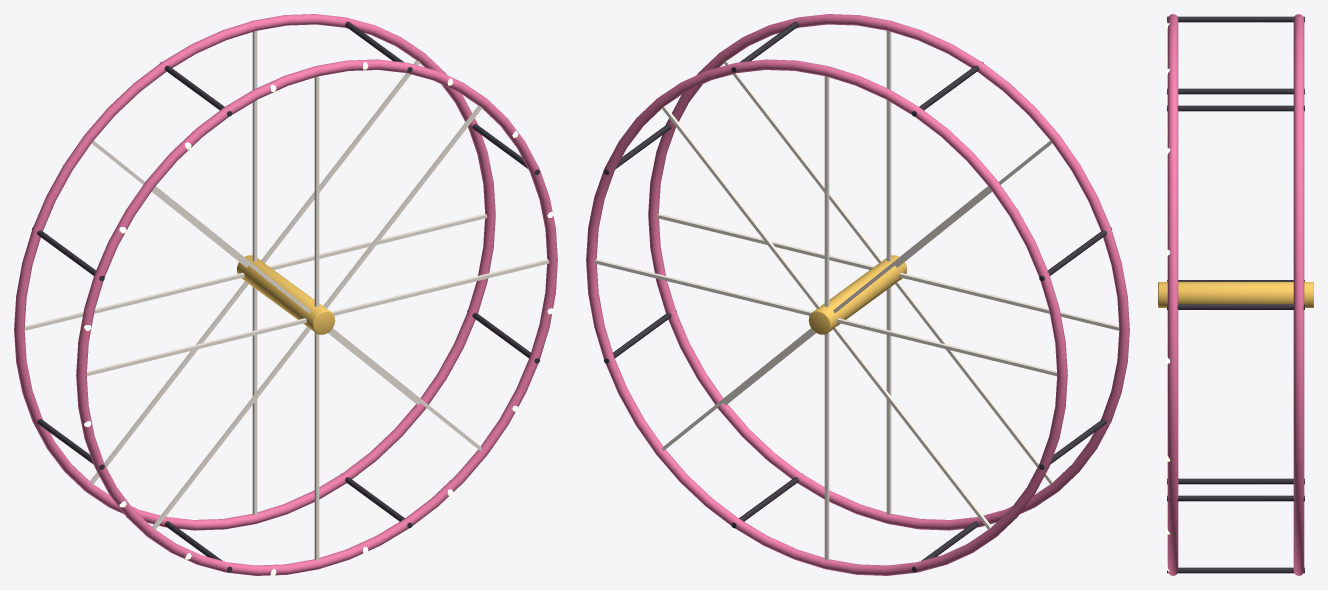
The model's file is ferris_rotor.glb.
3 renders of one model, left to right at view 1: azimuth 30°, elevation 25°; view 2: azimuth 150°, elevation 25°; view 3: azimuth 270°, elevation 25°, orthographic.
Parts seen in each view (by area): view 1: ferris_rotor; view 2: ferris_rotor; view 3: ferris_rotor.
Boxes of the visible parts, <box> form: ferris_rotor: <box>14,14,557,575</box>; ferris_rotor: <box>586,14,1129,575</box>; ferris_rotor: <box>1158,14,1313,575</box>.
Bounding box in the file's own units: 9.38 × 9.38 × 2.6.
